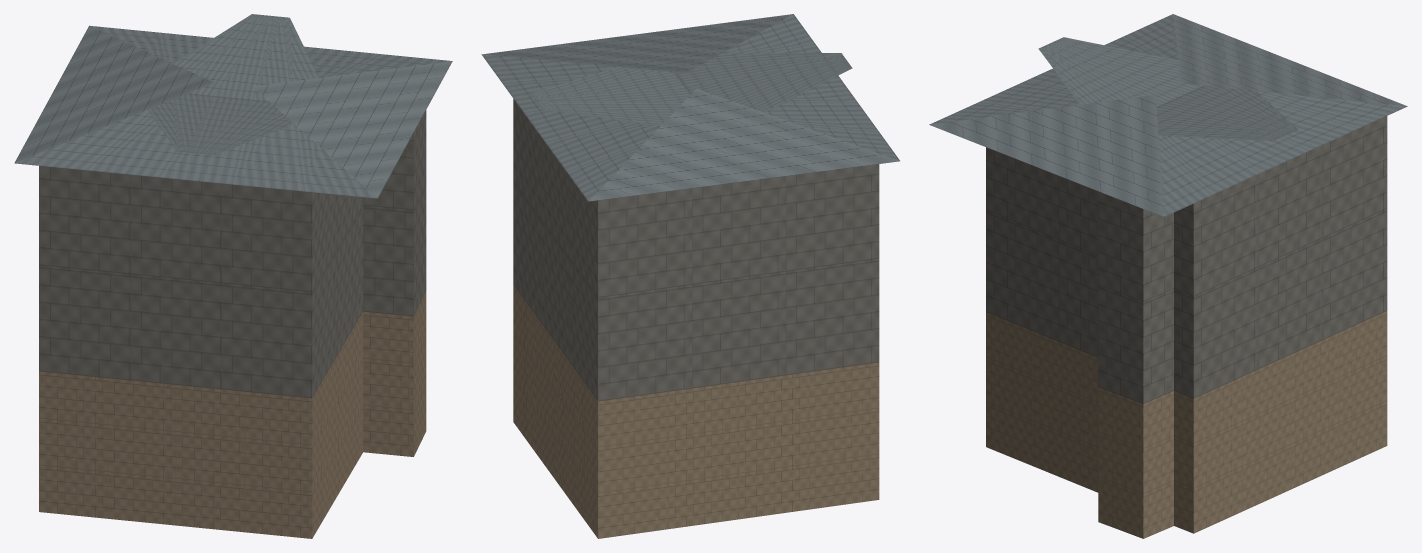
File: bld_c10_17_442.gltf
The picture shows the model from 3 angles, left to right: view 1: azimuth 30°, elevation 25°; view 2: azimuth 150°, elevation 25°; view 3: azimuth 270°, elevation 25°; orthographic projection. The views are drawn at different scales.
Visible parts, largest first — view 1: bld_c10_17_442; view 2: bld_c10_17_442; view 3: bld_c10_17_442.
Boxes of the visible parts, x1=… form: bld_c10_17_442: x1=14, y1=14, x2=452, y2=538; bld_c10_17_442: x1=481, y1=14, x2=899, y2=538; bld_c10_17_442: x1=929, y1=14, x2=1407, y2=538.
Size of the model in its own units: 16.45 by 13.8 by 16.38.
Materials: 3 (3 with a texture image).
